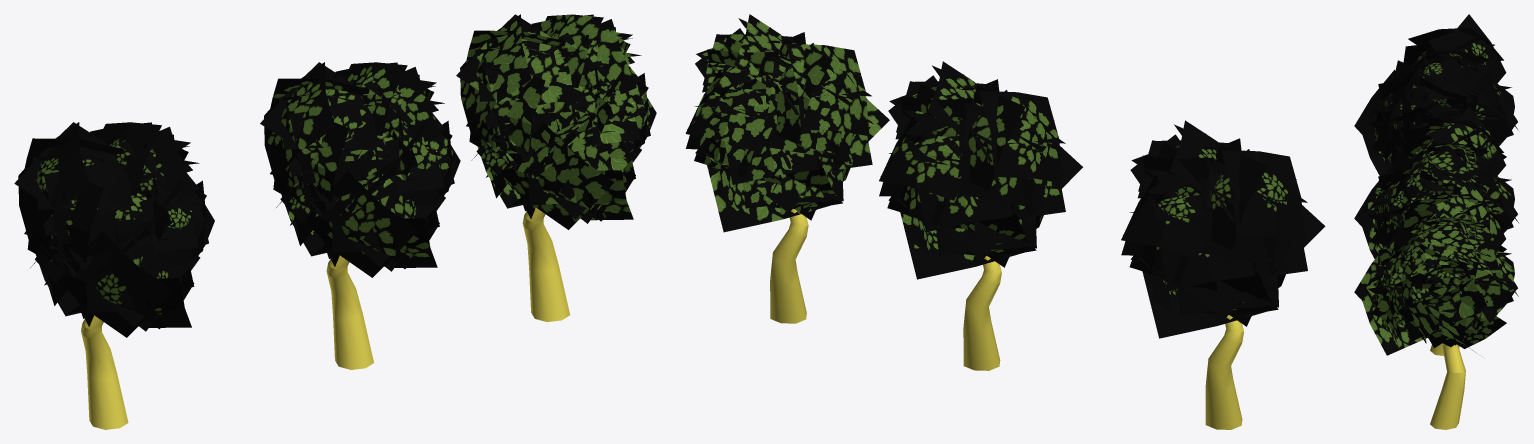
The model's file is 5_Arboles_Largos_Solido.fbx.
The picture shows the model from 3 angles, left to right: view 1: azimuth 30°, elevation 25°; view 2: azimuth 150°, elevation 25°; view 3: azimuth 270°, elevation 25°; orthographic projection. The views are drawn at different scales.
Parts seen in each view (by area): view 1: 6_Azul_LOD_0.004; view 2: 6_Azul_LOD_0.004; view 3: 6_Azul_LOD_0.004.
Part boxes in pixels (x1,y1,x2,y2): 6_Azul_LOD_0.004: [14, 14, 656, 429]; 6_Azul_LOD_0.004: [685, 14, 1325, 429]; 6_Azul_LOD_0.004: [1354, 14, 1518, 429].
Bounding box in the file's own units: 2122 × 957 × 640.
